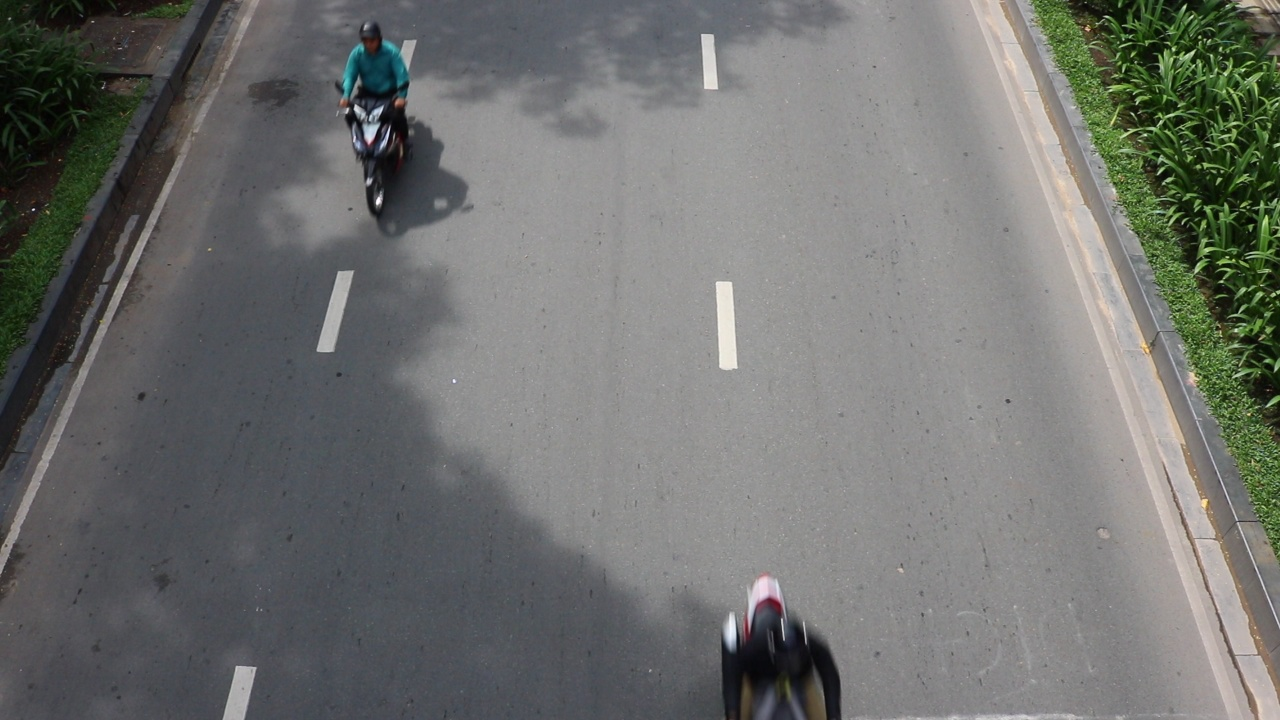motorcycle: (338, 90, 411, 218)
